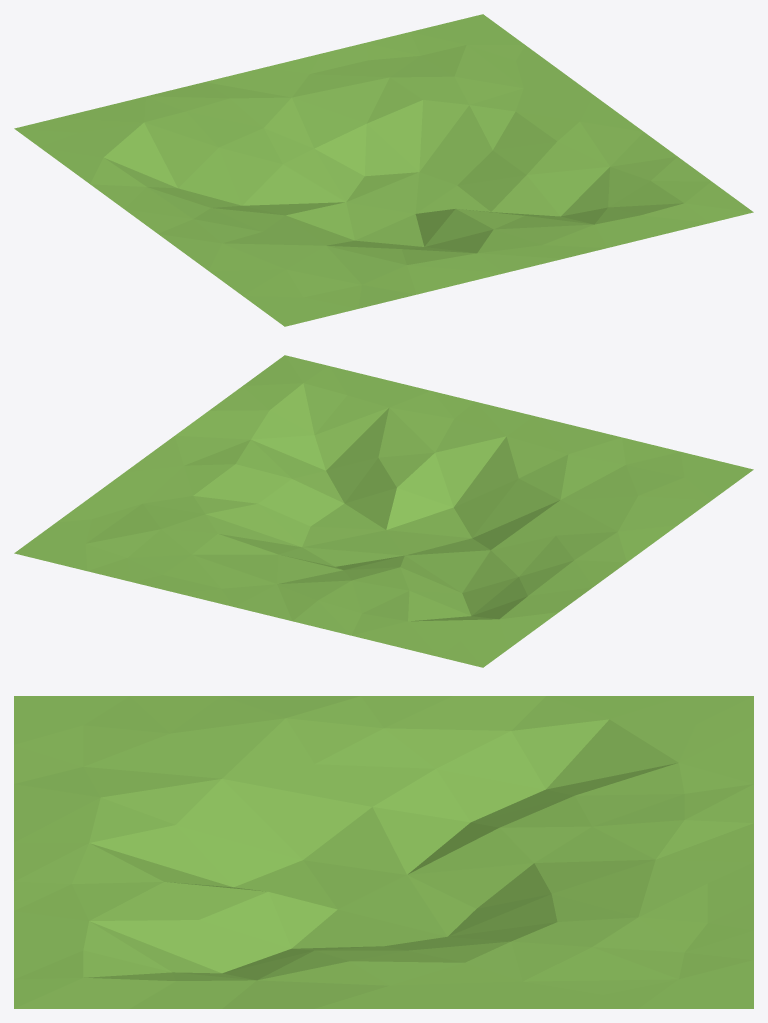
File: MT_Terrain_S_b_11_LOD.fbx
The picture shows the model from 3 angles, top to bottom: view 1: azimuth 30°, elevation 25°; view 2: azimuth 150°, elevation 25°; view 3: azimuth 270°, elevation 25°; orthographic projection. The views are drawn at different scales.
Visible parts, largest first — view 1: MT_Terrain_S_b_11_LOD0; view 2: MT_Terrain_S_b_11_LOD0; view 3: MT_Terrain_S_b_11_LOD0.
Part boxes in pixels (left/top/right/bottom): MT_Terrain_S_b_11_LOD0: left=14, top=14, right=753, bottom=326; MT_Terrain_S_b_11_LOD0: left=14, top=355, right=753, bottom=667; MT_Terrain_S_b_11_LOD0: left=14, top=696, right=753, bottom=1008.
Size of what is drawn, in the model's own units: 2500 by 188 by 2500.
